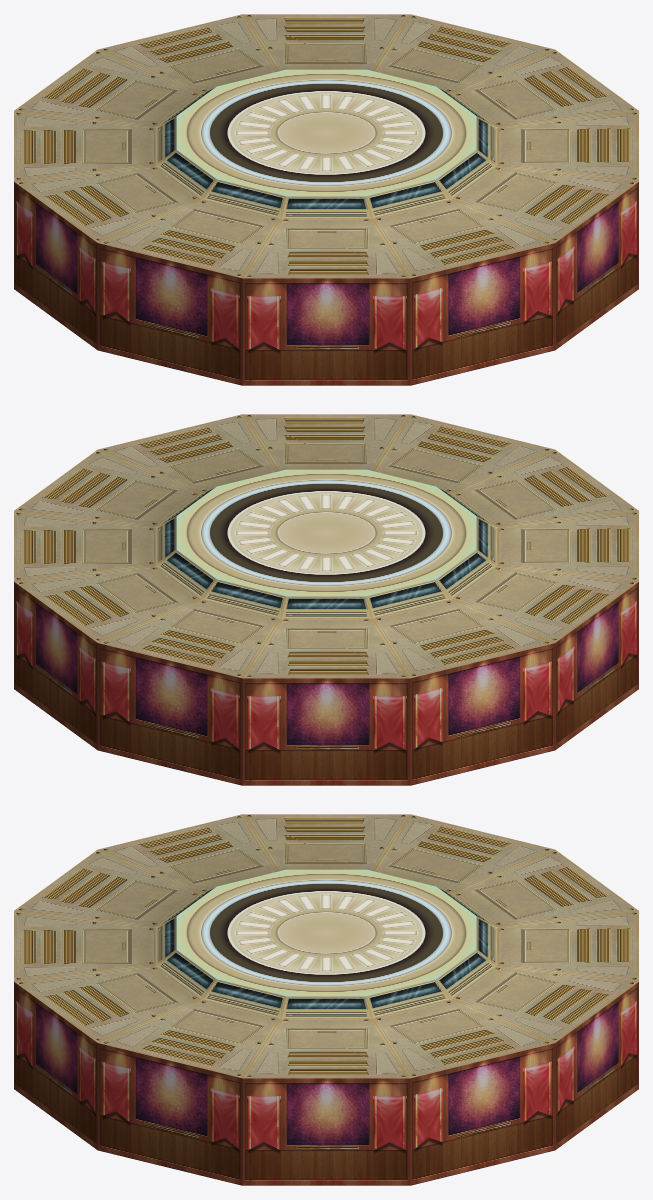
File: Lobby.FBX
3 views of the same model, one above another, from view 1: azimuth 30°, elevation 25°; view 2: azimuth 150°, elevation 25°; view 3: azimuth 270°, elevation 25° (orthographic).
Parts seen in each view (by area): view 1: Lobby_008, Lobby_007, Lobby_009, Lobby_006, Lobby_010, Lobby_005, Lobby_011, Lobby_004, Lobby_012, Lobby_001, Lobby_003, Lobby_002; view 2: Lobby_012, Lobby_001, Lobby_011, Lobby_002, Lobby_010, Lobby_003, Lobby_009, Lobby_004, Lobby_008, Lobby_005, Lobby_007, Lobby_006; view 3: Lobby_004, Lobby_003, Lobby_005, Lobby_002, Lobby_006, Lobby_001, Lobby_007, Lobby_008, Lobby_012, Lobby_009, Lobby_011, Lobby_010.
Boxes of the visible parts, x1,y1,x2,y2 form: Lobby_008: (242, 133, 410, 385); Lobby_007: (327, 133, 555, 385); Lobby_009: (97, 133, 325, 385); Lobby_006: (327, 133, 638, 349); Lobby_010: (14, 133, 325, 349); Lobby_005: (327, 111, 638, 181); Lobby_011: (14, 111, 325, 181); Lobby_004: (327, 49, 638, 132); Lobby_012: (14, 49, 325, 132); Lobby_001: (98, 14, 325, 132); Lobby_003: (327, 14, 554, 132); Lobby_002: (243, 14, 409, 132); Lobby_012: (242, 533, 410, 785); Lobby_001: (97, 533, 325, 785); Lobby_011: (327, 533, 555, 785); Lobby_002: (14, 533, 325, 749); Lobby_010: (327, 533, 638, 749); Lobby_003: (14, 511, 325, 581); Lobby_009: (327, 511, 638, 581); Lobby_004: (14, 449, 325, 532); Lobby_008: (327, 449, 638, 532); Lobby_005: (98, 414, 325, 532); Lobby_007: (327, 414, 554, 532); Lobby_006: (243, 414, 409, 532); Lobby_004: (242, 933, 410, 1185); Lobby_003: (327, 933, 555, 1185); Lobby_005: (97, 933, 325, 1185); Lobby_002: (327, 933, 638, 1149); Lobby_006: (14, 933, 325, 1149); Lobby_001: (327, 911, 638, 981); Lobby_007: (14, 911, 325, 981); Lobby_008: (14, 849, 325, 932); Lobby_012: (327, 849, 638, 932); Lobby_009: (98, 814, 325, 932); Lobby_011: (327, 814, 554, 932); Lobby_010: (243, 814, 409, 932).
Size of the model in its own units: 1739 by 371 by 1739.
